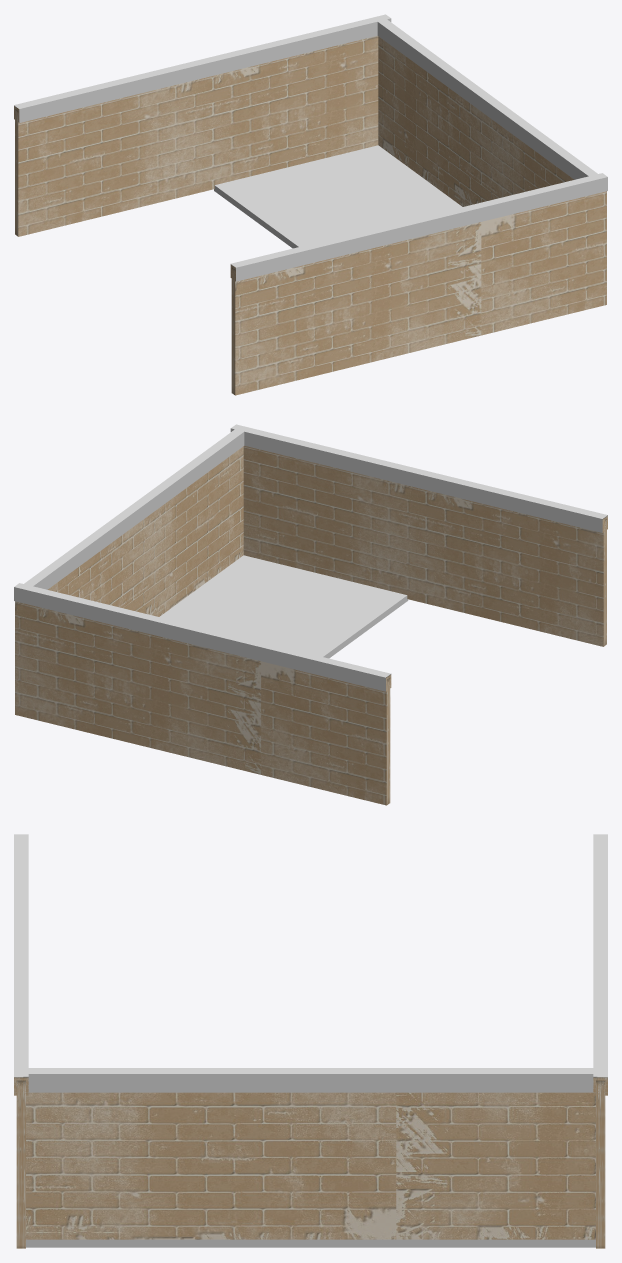
File: Outside_Wall.fbx
The picture shows the model from 3 angles, top to bottom: view 1: azimuth 30°, elevation 25°; view 2: azimuth 150°, elevation 25°; view 3: azimuth 270°, elevation 25°; orthographic projection. The views are drawn at different scales.
Visible parts, largest first — view 1: Outside_Wall.001, Outside_Wall.002, Outside_Wall, OutSide_Floor; view 2: Outside_Wall.002, Outside_Wall.001, Outside_Wall, OutSide_Floor; view 3: Outside_Wall, Outside_Wall.001, Outside_Wall.002, OutSide_Floor.
Part boxes in pixels (x1,y1,x2,y2): Outside_Wall.001: (230, 173, 607, 395); Outside_Wall.002: (14, 14, 391, 236); Outside_Wall: (376, 18, 599, 206); OutSide_Floor: (214, 145, 462, 248); Outside_Wall.002: (14, 583, 391, 805); Outside_Wall.001: (230, 424, 607, 646); Outside_Wall: (23, 428, 245, 616); OutSide_Floor: (159, 555, 408, 658); Outside_Wall: (23, 1068, 597, 1239); Outside_Wall.001: (14, 834, 28, 1248); Outside_Wall.002: (593, 834, 607, 1248); OutSide_Floor: (26, 1239, 595, 1247).
Size of the model in its own units: 160 by 53.7 by 165.
Materials: 3 (1 with a texture image).
